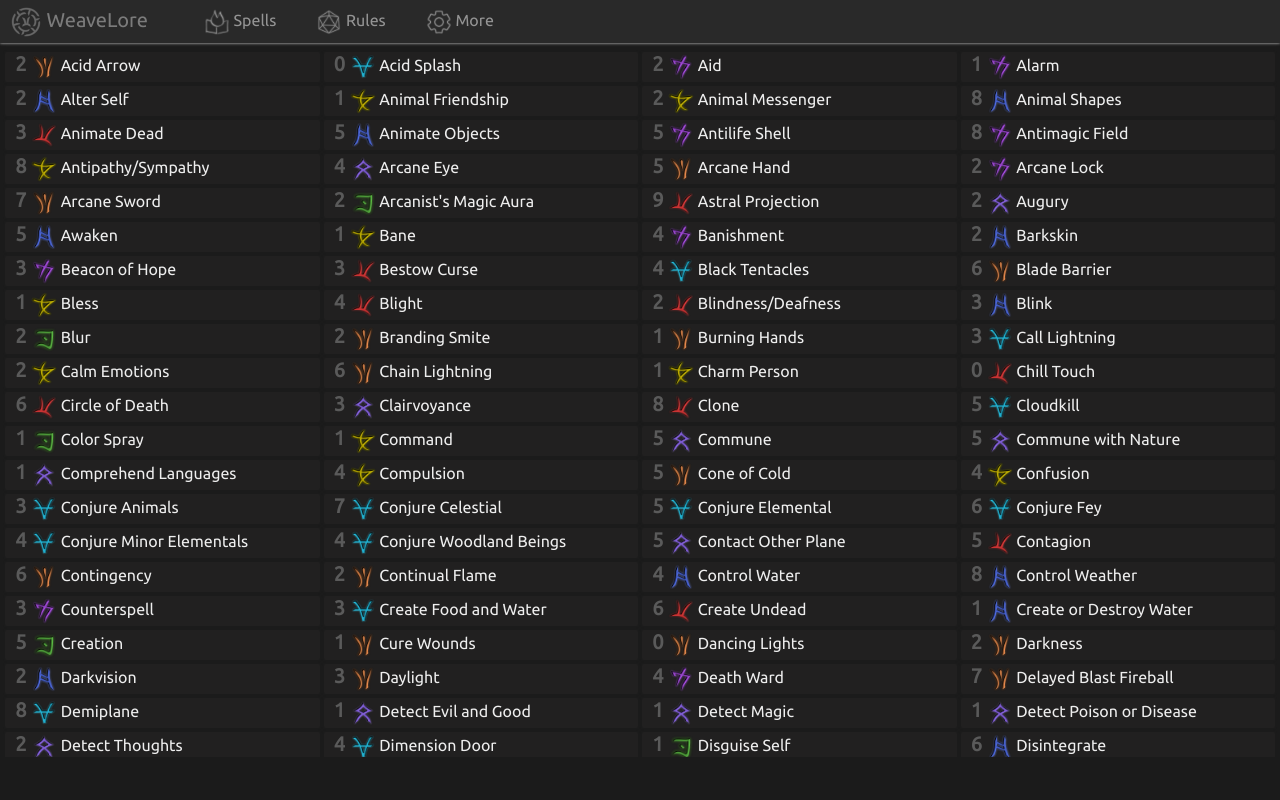
Rules page › filters rules correctly
Click the link "Rules" at (351, 22), box [316, 9, 385, 35]
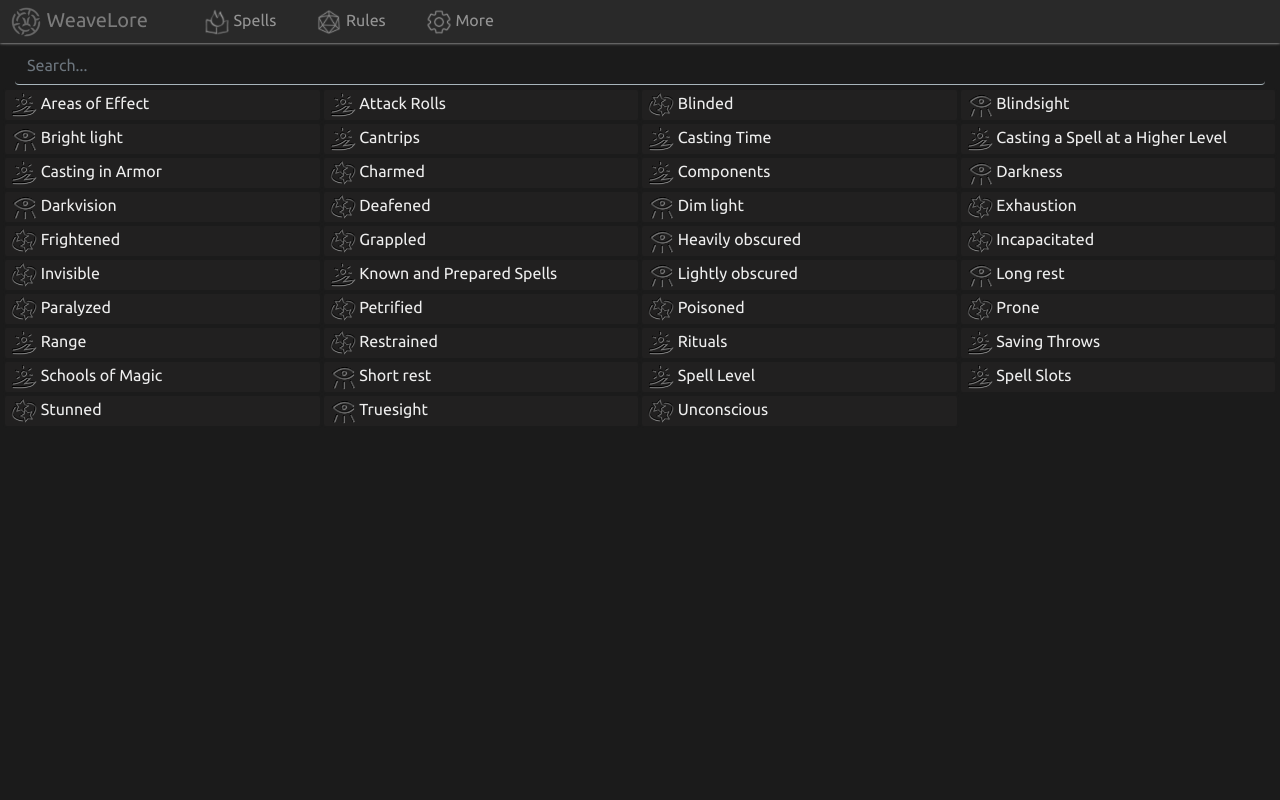
Type "rea" into the field with placeholder "Search..." at (640, 66), box [15, 47, 1265, 85]
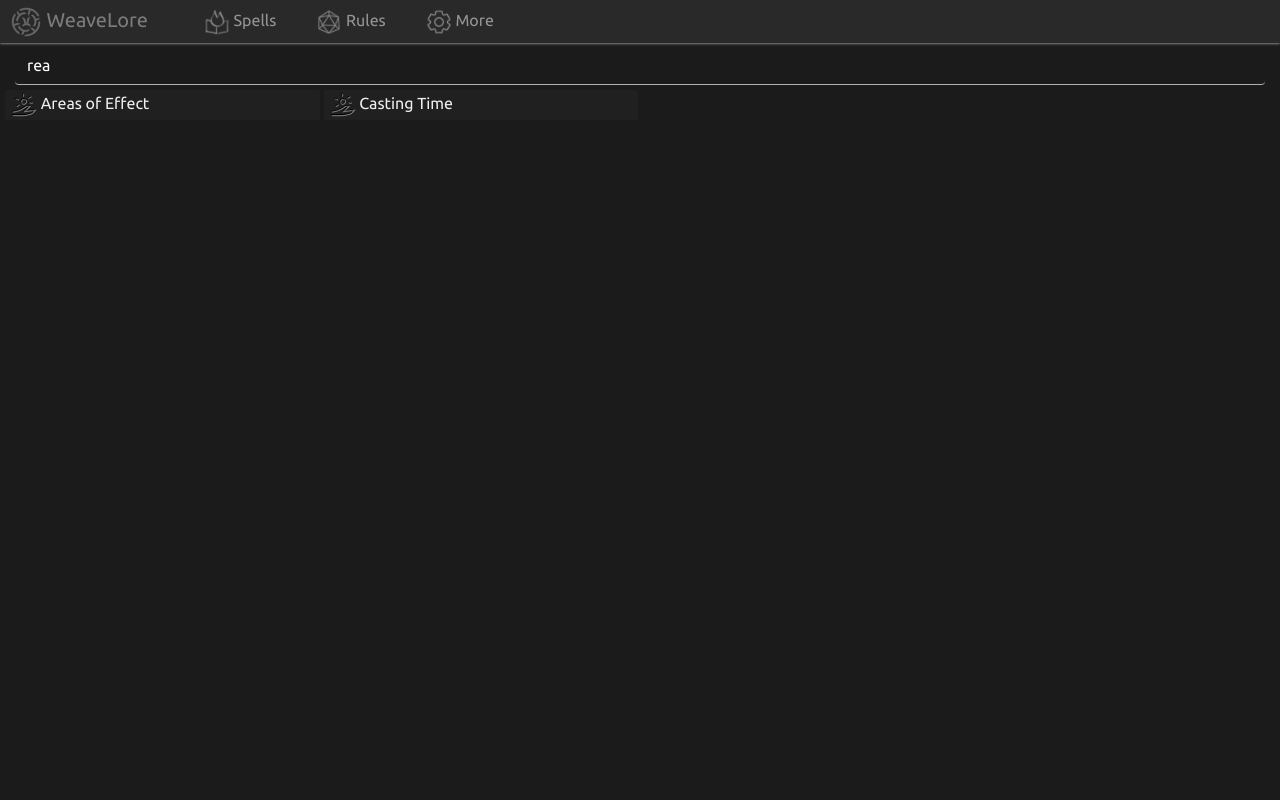
Check: the text "Areas of Effect" is shown, box [3, 88, 322, 122]
Check: the text "Casting Time" is shown, box [322, 88, 640, 122]
Check: the number of elements with class "rule" is 2, box [3, 88, 322, 122]; [322, 88, 640, 122]
